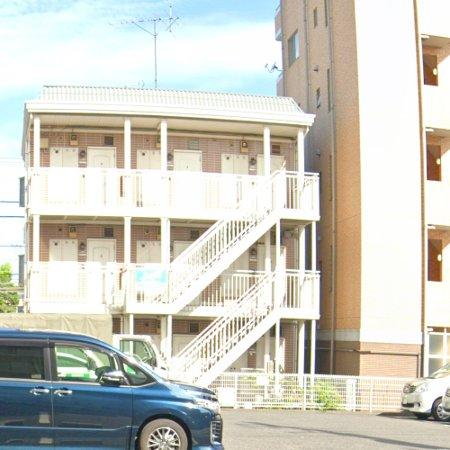stairs: (124, 171, 318, 315), (172, 270, 319, 387)
